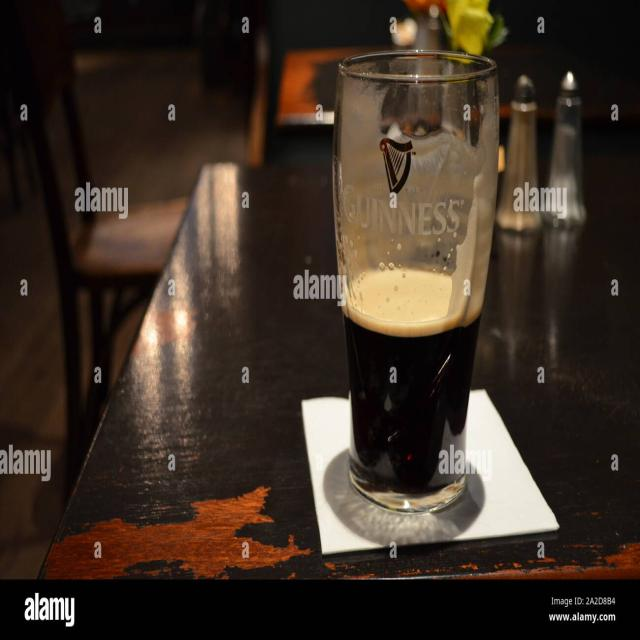too_low_glass: (337, 50, 499, 527)
